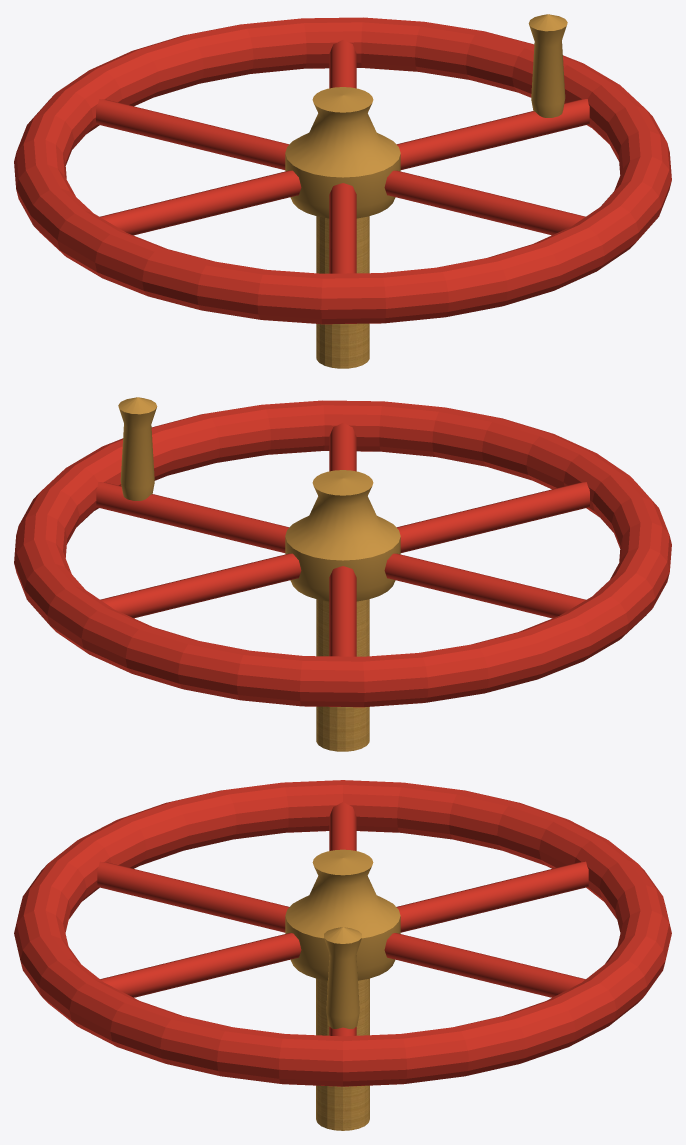
File: act2_wheel_coral.glb
The picture shows the model from 3 angles, top to bottom: view 1: azimuth 30°, elevation 25°; view 2: azimuth 150°, elevation 25°; view 3: azimuth 270°, elevation 25°; orthographic projection.
Parts seen in each view (by area): view 1: ANIM_Act2_HandWheel_Mesh; view 2: ANIM_Act2_HandWheel_Mesh; view 3: ANIM_Act2_HandWheel_Mesh.
Boxes of the visible parts, x1,y1,x2,y2 form: ANIM_Act2_HandWheel_Mesh: (14,14,671,368); ANIM_Act2_HandWheel_Mesh: (14,397,671,751); ANIM_Act2_HandWheel_Mesh: (14,780,671,1130).
Size of the model in its own units: 1.35 by 0.66 by 1.35.
Materials: 2 (1 with a texture image).
